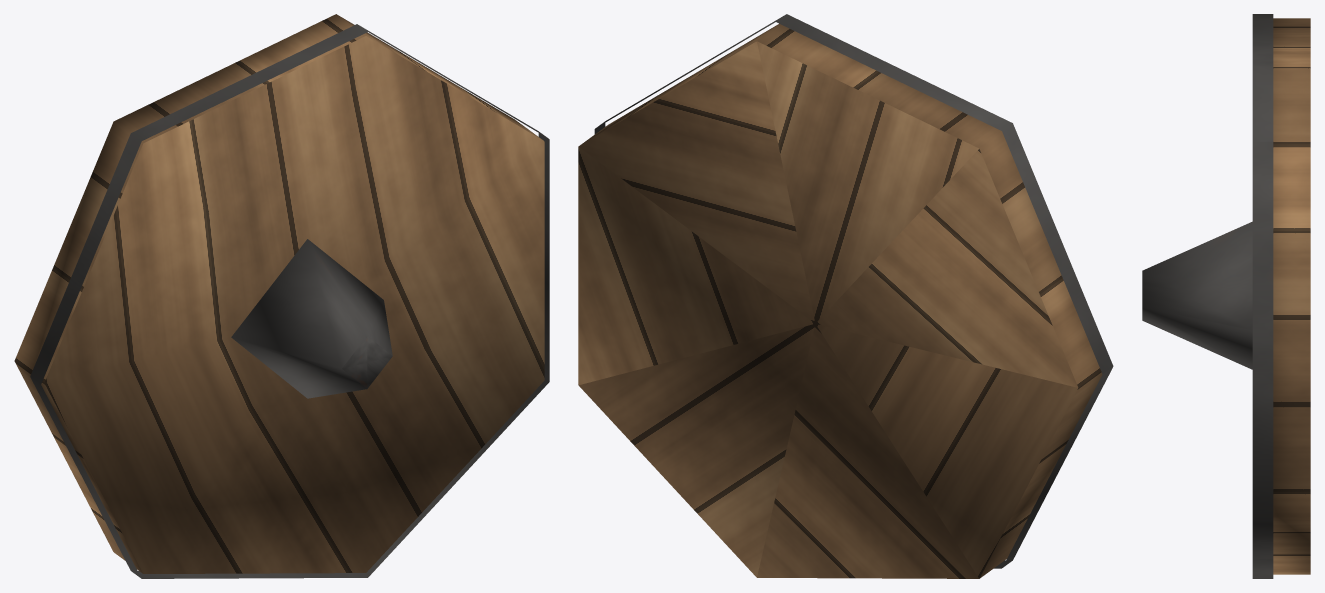
File: Shield_Wooden_LOD2.gltf
3 renders of one model, left to right at view 1: azimuth 30°, elevation 25°; view 2: azimuth 150°, elevation 25°; view 3: azimuth 270°, elevation 25°, orthographic. The views are drawn at different scales.
Visible parts, largest first — view 1: Shield_Wooden_LOD2; view 2: Shield_Wooden_LOD2; view 3: Shield_Wooden_LOD2.
Boxes of the visible parts, x1=… form: Shield_Wooden_LOD2: x1=14, y1=14, x2=549, y2=578; Shield_Wooden_LOD2: x1=578, y1=14, x2=1113, y2=578; Shield_Wooden_LOD2: x1=1142, y1=14, x2=1310, y2=578.
Bounding box in the file's own units: 0.5893 × 0.6045 × 0.18.
Materials: 2 (2 with a texture image).
